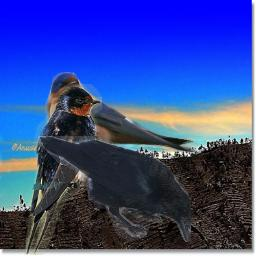Crow: (38, 136, 191, 242)
Swallow: (45, 72, 209, 156), (22, 84, 102, 255)
